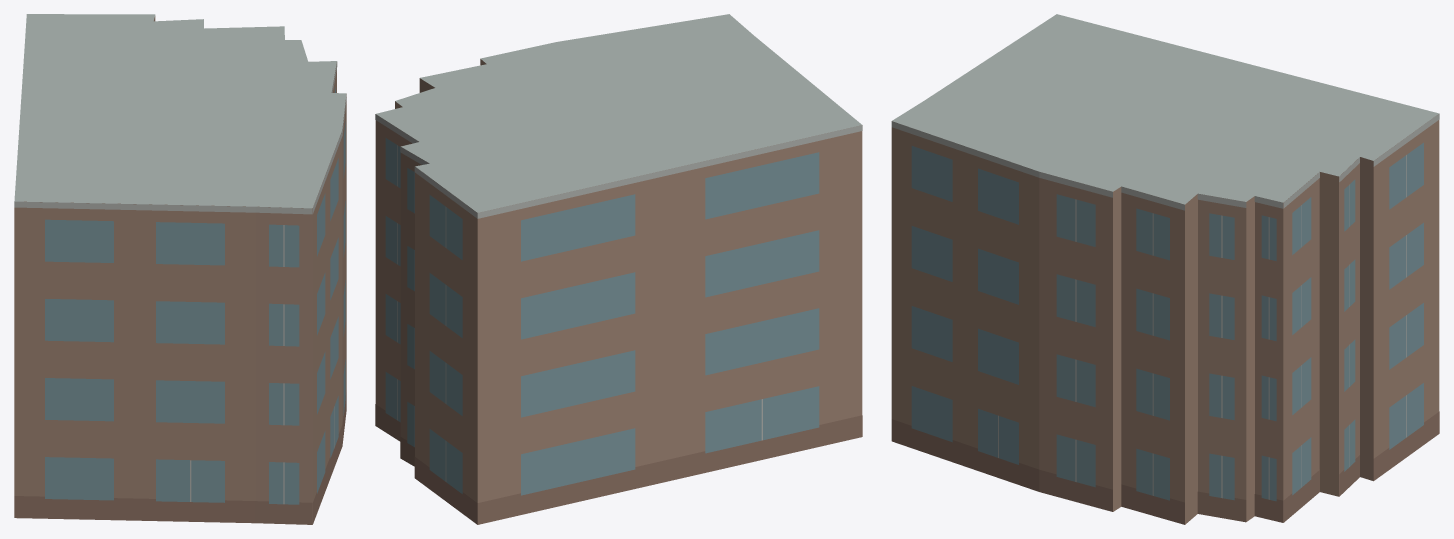
Rendered from survey-upis-32848453.glb.
3 renders of one model, left to right at view 1: azimuth 30°, elevation 25°; view 2: azimuth 150°, elevation 25°; view 3: azimuth 270°, elevation 25°, orthographic. The views are drawn at different scales.
Visible parts, largest first — view 1: survey-upis-32848453.tmp; view 2: survey-upis-32848453.tmp; view 3: survey-upis-32848453.tmp.
Part boxes in pixels (bbox=[...]): survey-upis-32848453.tmp: bbox=[14, 14, 346, 524]; survey-upis-32848453.tmp: bbox=[375, 14, 862, 524]; survey-upis-32848453.tmp: bbox=[891, 14, 1439, 524].
Bounding box in the file's own units: 16.35 × 12.8 × 19.85.
